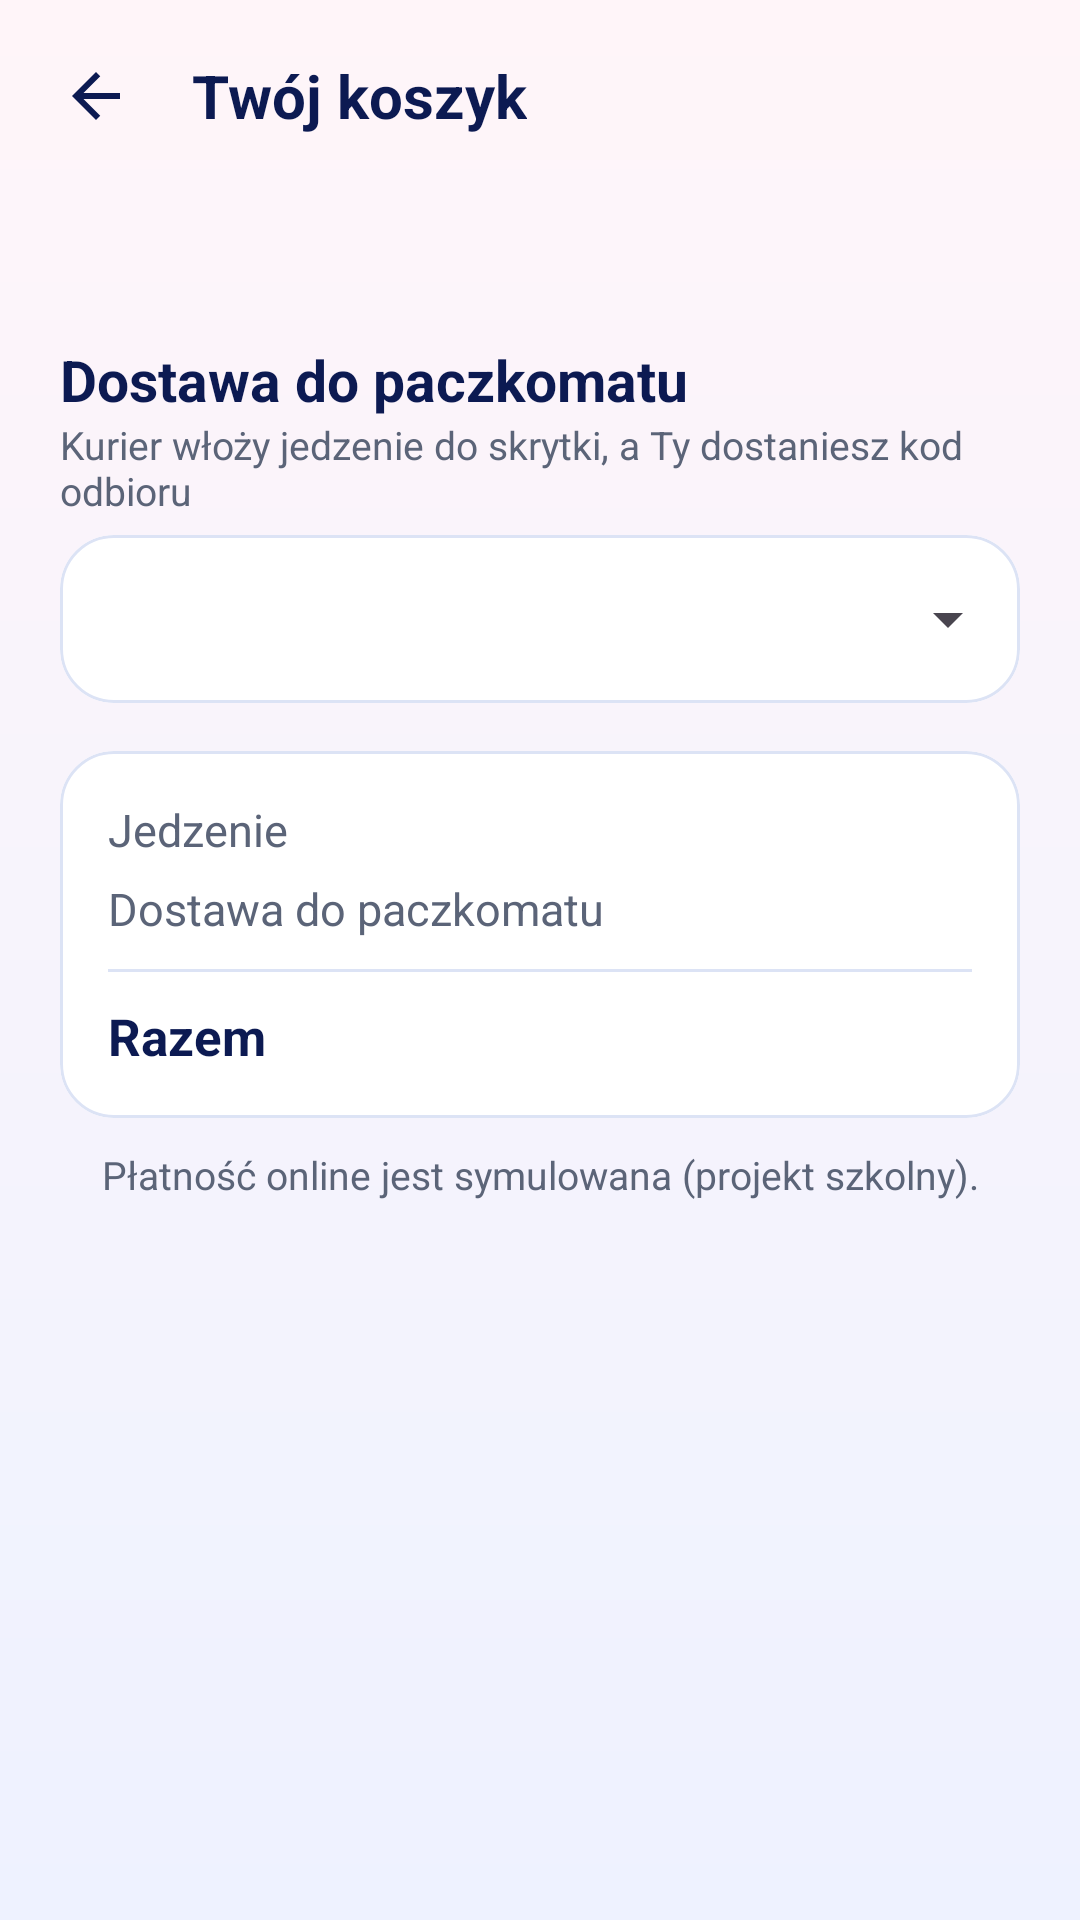

Point at icon controls on the screen. Image size 1080×1920, points as [x,y].
Wstecz: [96,96]
